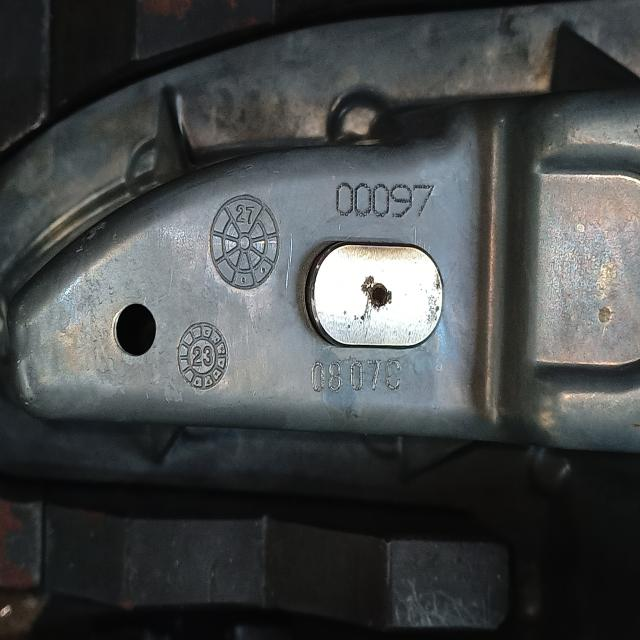DotPeeningText: (334, 180, 436, 220)
MachinePeeningText: (308, 357, 407, 393)
